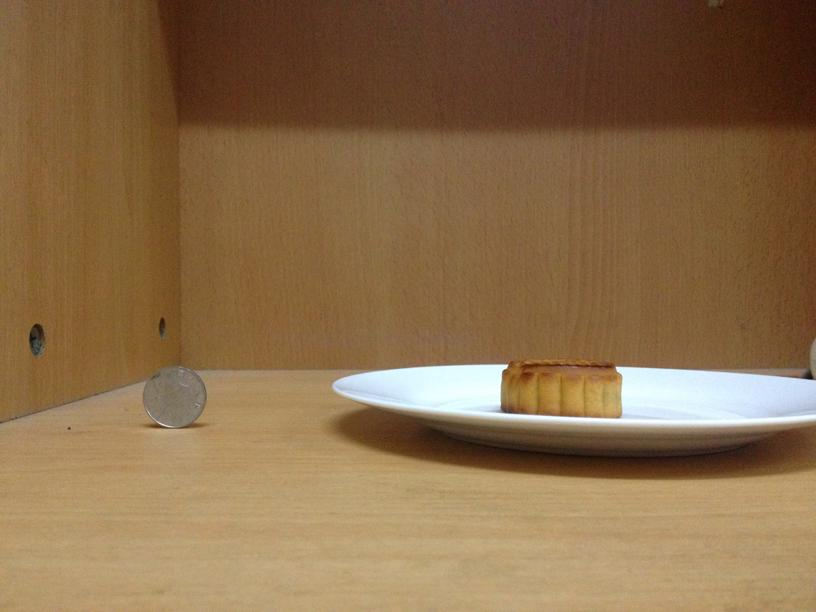coin: (139, 366, 205, 429)
mooncake: (498, 360, 623, 419)
